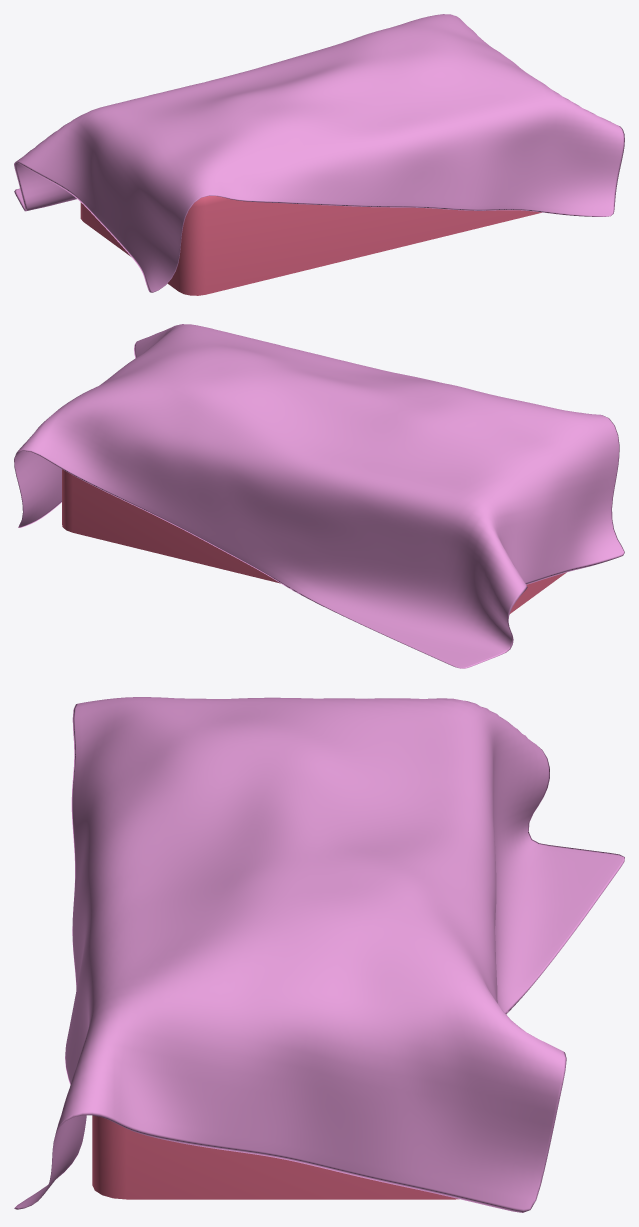
The model's file is Berg3.fbx.
The picture shows the model from 3 angles, top to bottom: view 1: azimuth 30°, elevation 25°; view 2: azimuth 150°, elevation 25°; view 3: azimuth 270°, elevation 25°; orthographic projection. The views are drawn at different scales.
Parts seen in each view (by area): view 1: SM_Berg_003; view 2: SM_Berg_003; view 3: SM_Berg_003.
Boxes of the visible parts, x1=… form: SM_Berg_003: x1=14, y1=14, x2=624, y2=295; SM_Berg_003: x1=14, y1=324, x2=624, y2=668; SM_Berg_003: x1=14, y1=697, x2=624, y2=1212.
Size of the model in its own units: 4607 by 1250 by 2971.
